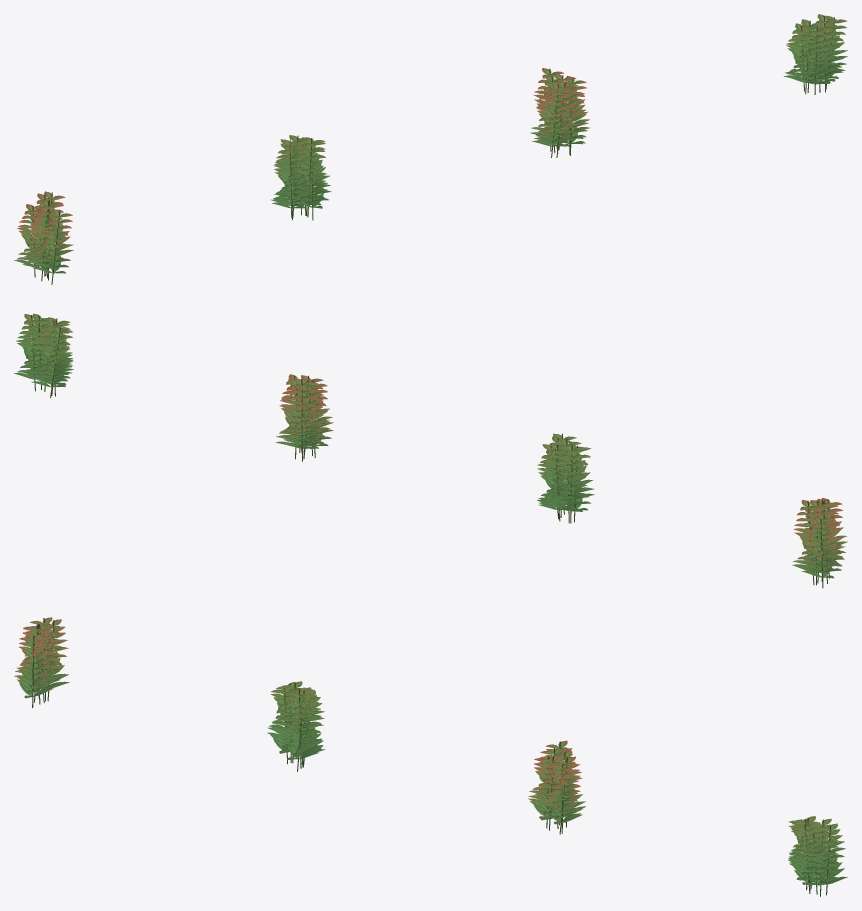
The picture shows the model from 3 angles, top to bottom: view 1: azimuth 30°, elevation 25°; view 2: azimuth 150°, elevation 25°; view 3: azimuth 330°, elevation 25°; orthographic projection.
Parts seen in each view (by area): view 1: rotala.002, rotala.001, rotala.003, rotala; view 2: rotala.003, rotala.001, rotala, rotala.002; view 3: rotala.001, rotala.002, rotala.003, rotala.
Part boxes in pixels (x1=…): rotala.002: x1=530, y1=68, x2=589, y2=157; rotala.001: x1=271, y1=135, x2=331, y2=220; rotala.003: x1=783, y1=14, x2=847, y2=94; rotala: x1=14, y1=191, x2=73, y2=284; rotala.003: x1=14, y1=313, x2=73, y2=397; rotala.001: x1=537, y1=433, x2=594, y2=523; rotala: x1=792, y1=498, x2=847, y2=588; rotala.002: x1=275, y1=374, x2=333, y2=461; rotala.001: x1=267, y1=681, x2=325, y2=771; rotala.002: x1=528, y1=740, x2=585, y2=834; rotala.003: x1=788, y1=816, x2=847, y2=896; rotala: x1=14, y1=617, x2=69, y2=707.
Size of the model in its own units: 9.56 by 0.9244 by 0.658.
